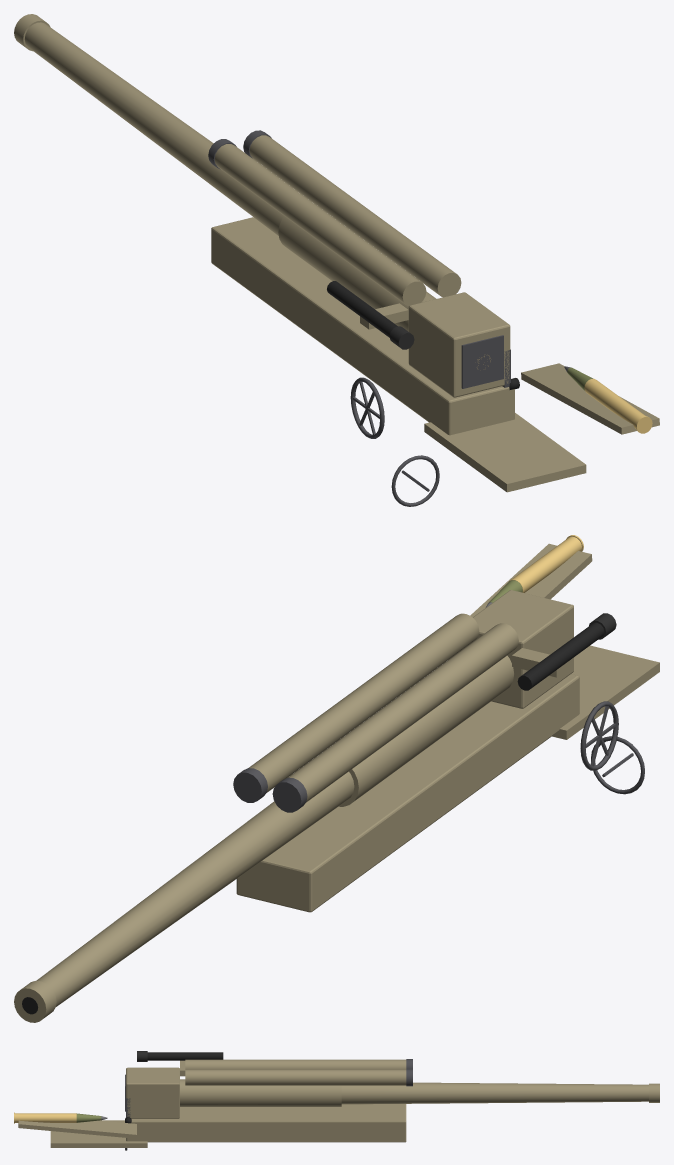
Rendered from flak88.glb.
3 renders of one model, top to bottom at view 1: azimuth 30°, elevation 25°; view 2: azimuth 150°, elevation 25°; view 3: azimuth 270°, elevation 25°, orthographic. The views are drawn at different scales.
Visible parts, largest first — view 1: Flak88_Body, Flak88_Barrel, Flak88_Breech, Flak88_Shell; view 2: Flak88_Body, Flak88_Barrel, Flak88_Shell; view 3: Flak88_Body, Flak88_Barrel, Flak88_Shell.
Boxes of the visible parts, x1,y1,x2,y2 form: Flak88_Body: (208, 130, 659, 506); Flak88_Barrel: (14, 14, 510, 397); Flak88_Breech: (461, 335, 519, 389); Flak88_Shell: (564, 366, 652, 433); Flak88_Body: (233, 543, 659, 912); Flak88_Barrel: (14, 590, 573, 1022); Flak88_Shell: (485, 535, 583, 607); Flak88_Body: (18, 1051, 412, 1150); Flak88_Barrel: (126, 1067, 659, 1118); Flak88_Shell: (14, 1112, 107, 1123).
Bounding box in the file's own units: 1.11 × 1.06 × 5.99.
